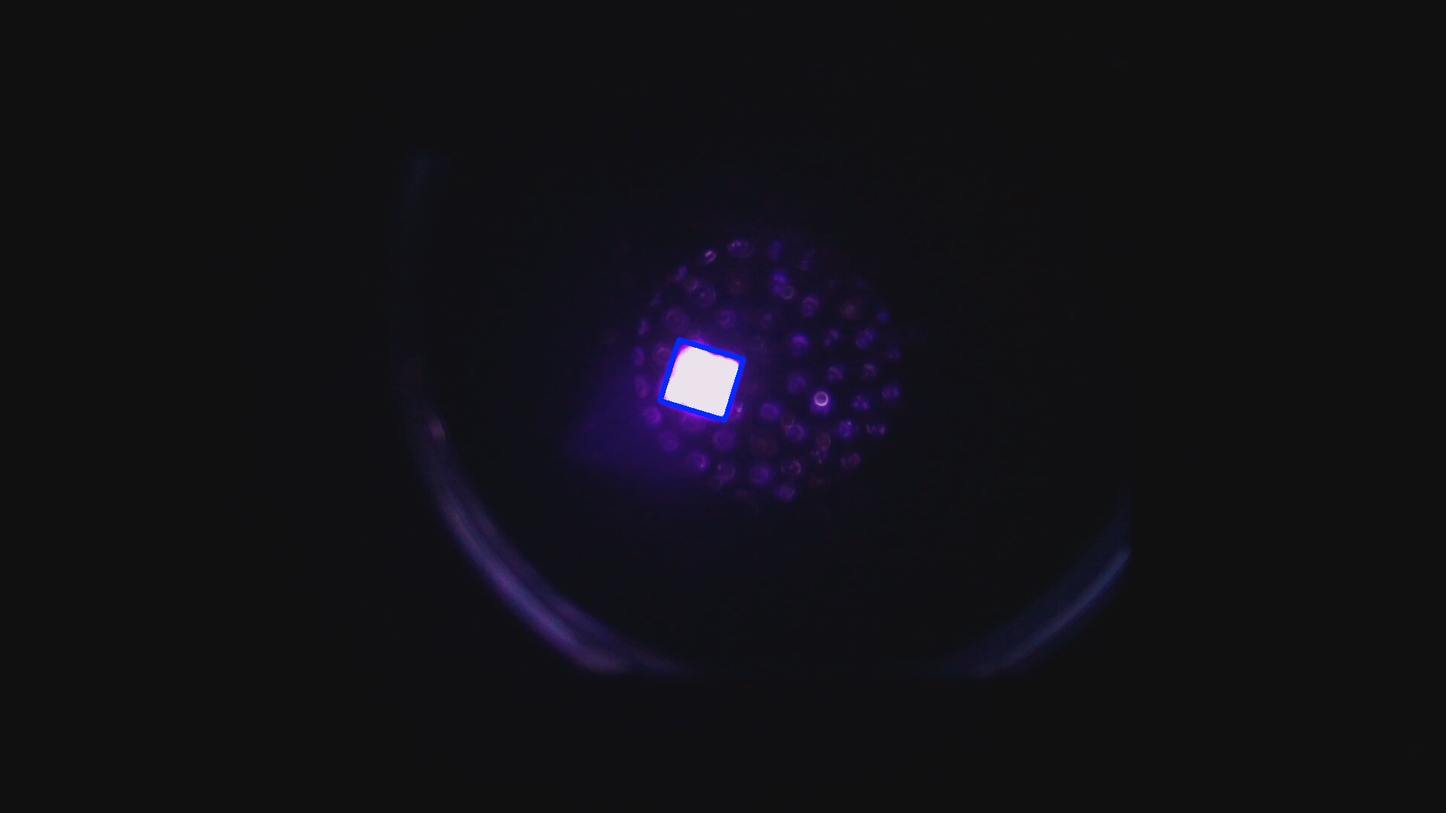plastic: (660, 339, 743, 422)
